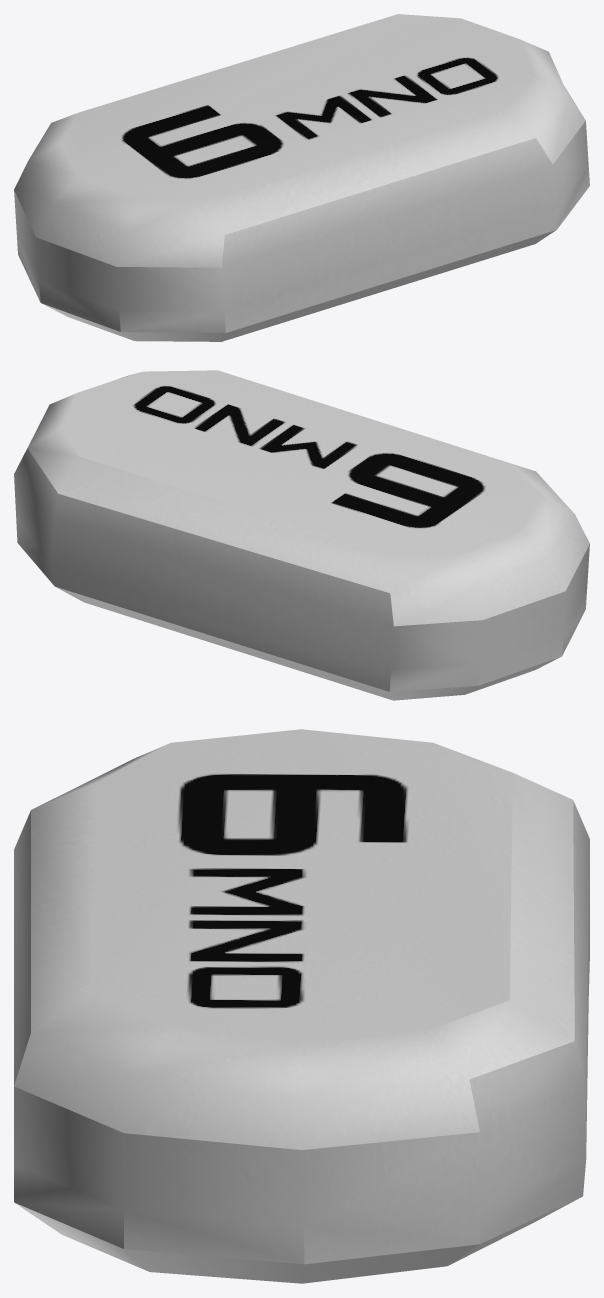
Rendered from mno6_button.glb.
3 renders of one model, top to bottom at view 1: azimuth 30°, elevation 25°; view 2: azimuth 150°, elevation 25°; view 3: azimuth 270°, elevation 25°, orthographic. The views are drawn at different scales.
Parts seen in each view (by area): view 1: mno6_button; view 2: mno6_button; view 3: mno6_button.
Part boxes in pixels (x1,y1,x2,y2): mno6_button: (14, 14, 589, 341); mno6_button: (14, 370, 589, 700); mno6_button: (14, 729, 589, 1283).
Bounding box in the file's own units: 0.00277 × 0.000842 × 0.00156.
Materials: 1 (1 with a texture image).
